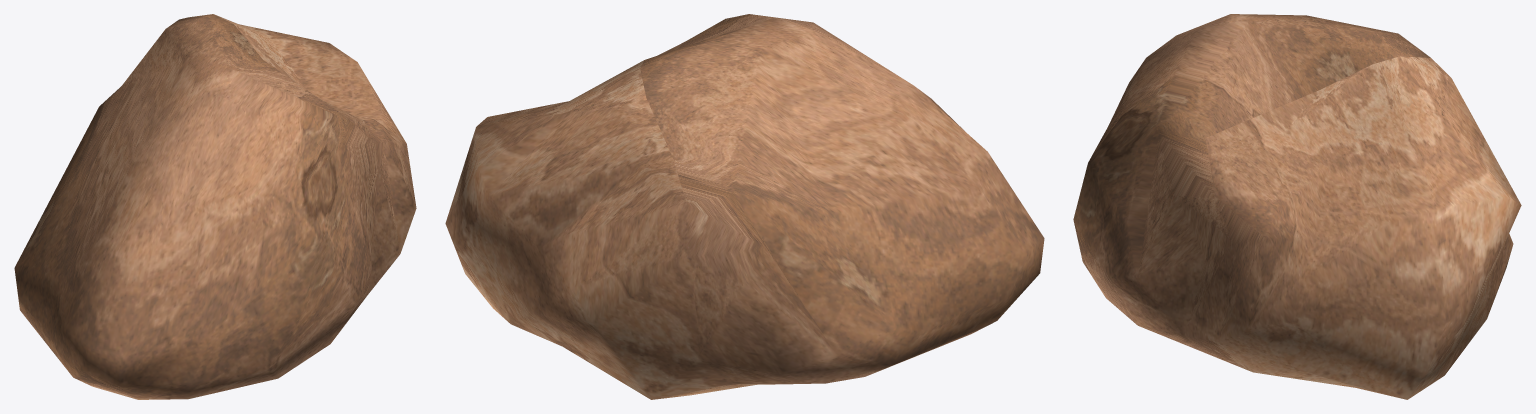
Rendered from Ob_Rock2_RC.fbx.
The picture shows the model from 3 angles, left to right: view 1: azimuth 30°, elevation 25°; view 2: azimuth 150°, elevation 25°; view 3: azimuth 270°, elevation 25°; orthographic projection. The views are drawn at different scales.
Parts seen in each view (by area): view 1: Ob_Rock2_RC; view 2: Ob_Rock2_RC; view 3: Ob_Rock2_RC.
Boxes of the visible parts, x1,y1,x2,y2 form: Ob_Rock2_RC: [14, 14, 416, 399]; Ob_Rock2_RC: [445, 14, 1044, 399]; Ob_Rock2_RC: [1073, 14, 1521, 399].
Bounding box in the file's own units: 389 × 273 × 334.
